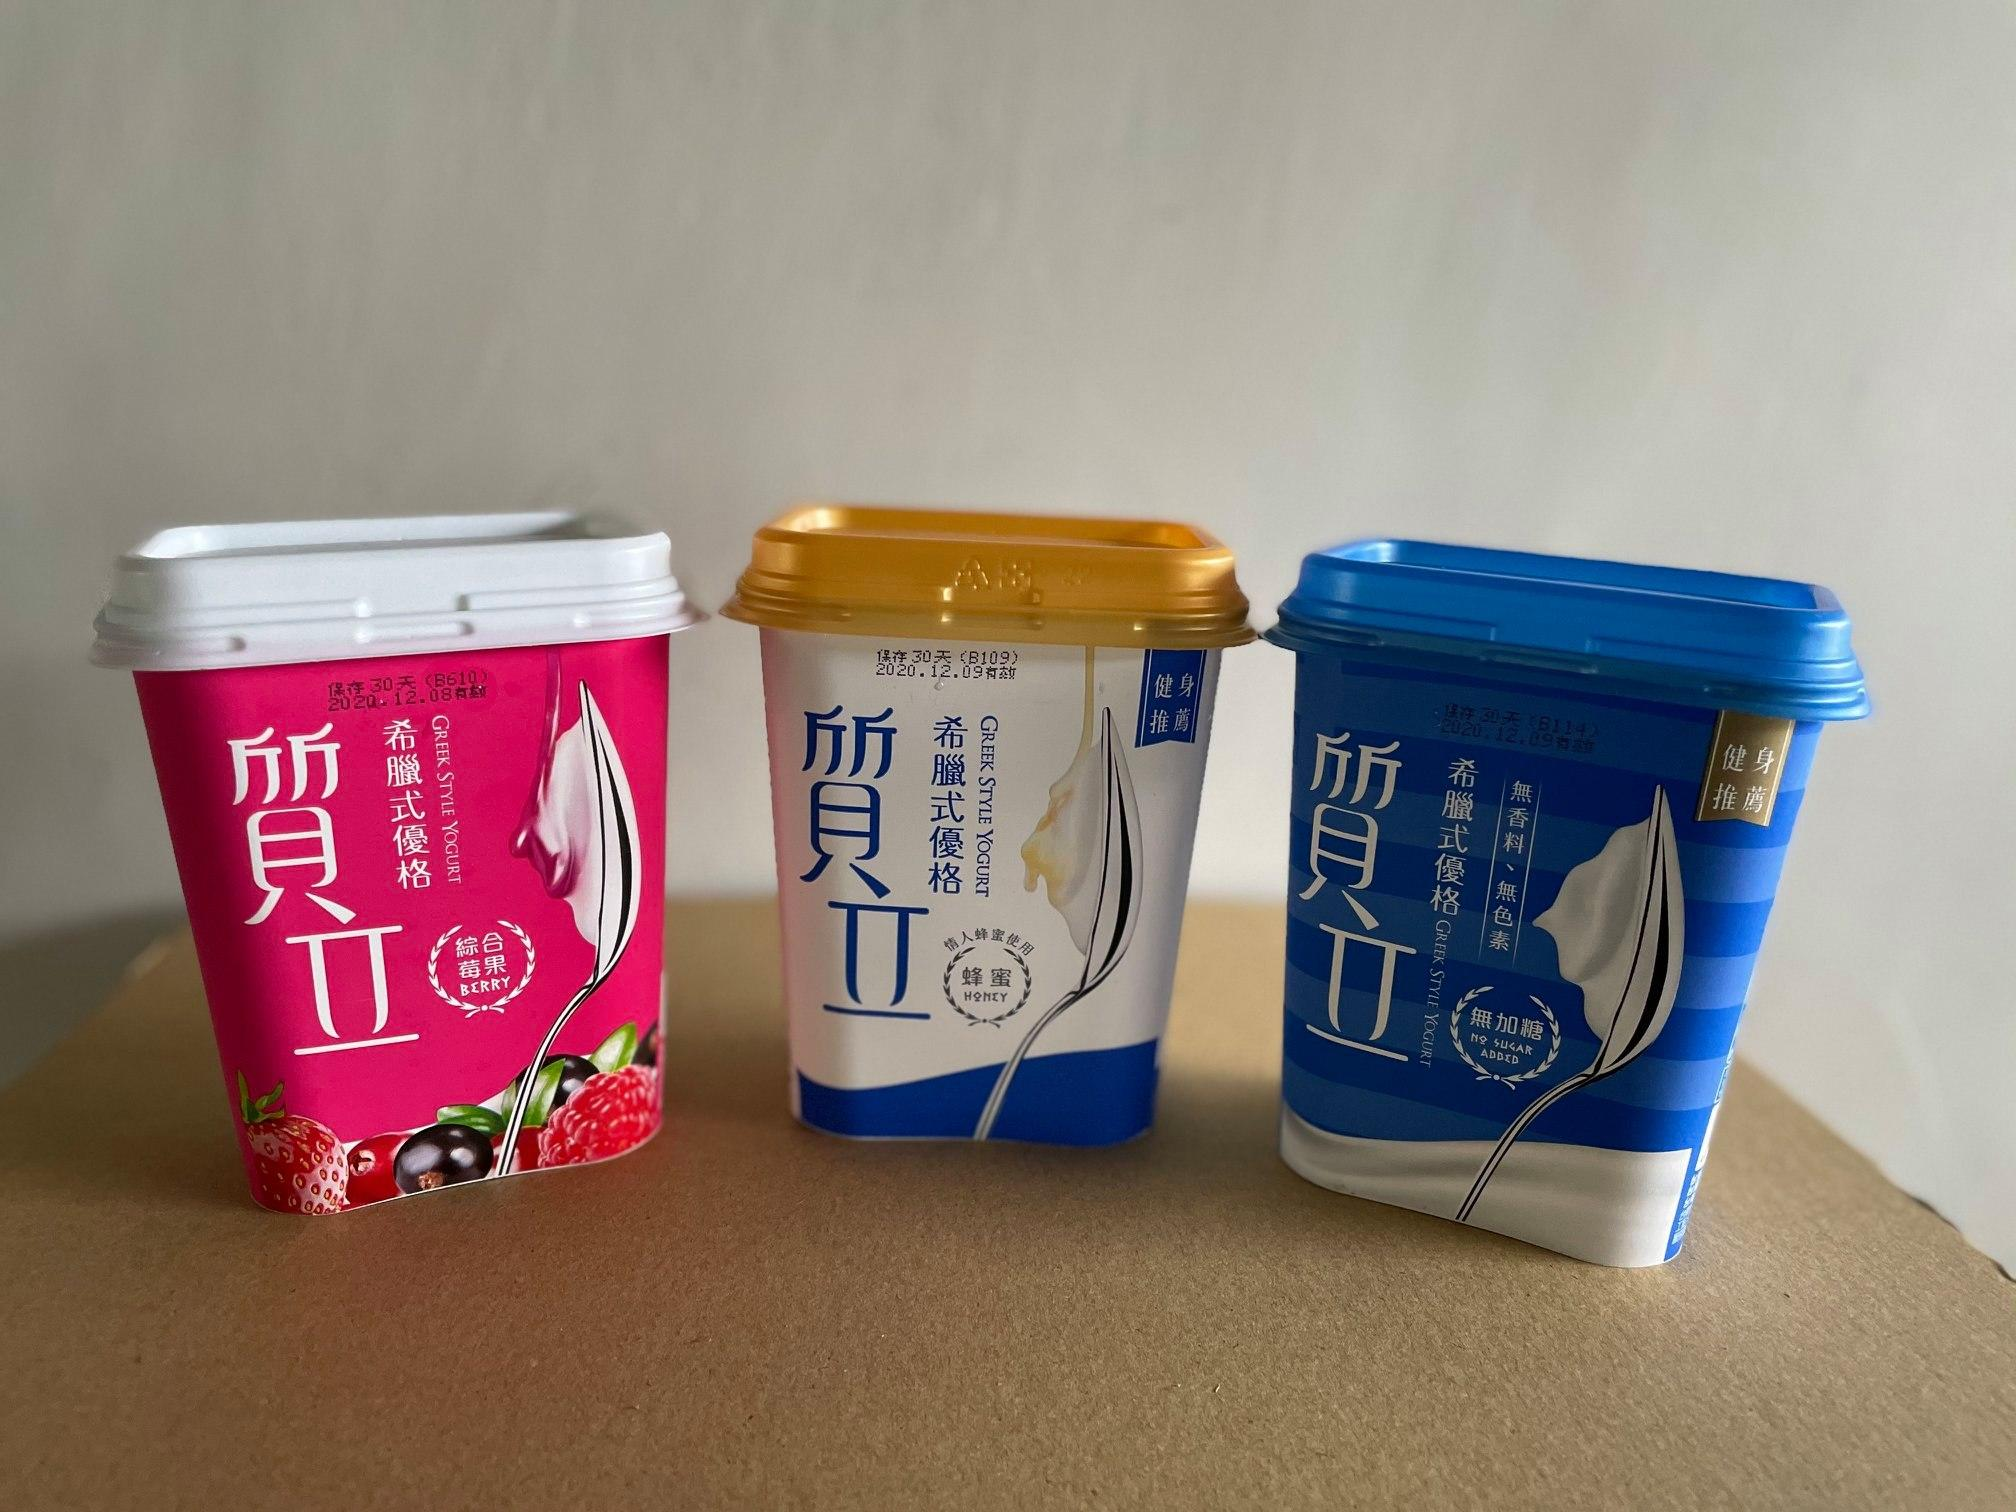plastic: (1272, 540, 1868, 1264), (94, 511, 695, 1213), (724, 507, 1251, 1144)
